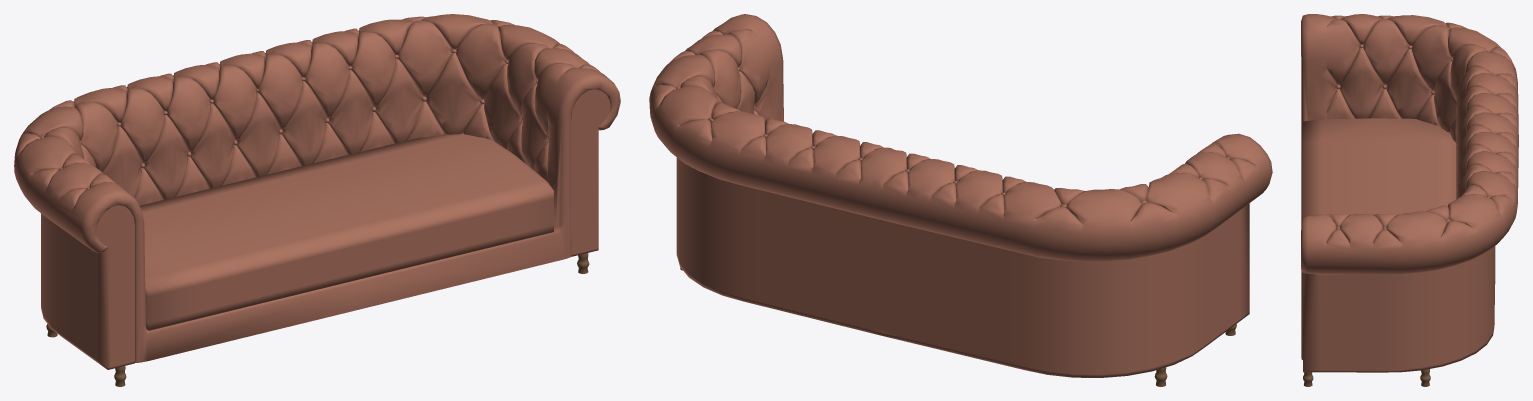
The model's file is sofa_winchester.glb.
3 views of the same model, side by side, from view 1: azimuth 30°, elevation 25°; view 2: azimuth 150°, elevation 25°; view 3: azimuth 270°, elevation 25° (orthographic). The views are drawn at different scales.
Parts seen in each view (by area): view 1: Circle, Cube_Cube.001, Circle.002_Circle.003; view 2: Circle.002_Circle.003, Circle; view 3: Circle, Circle.002_Circle.003, Cube_Cube.001.
Boxes of the visible parts, x1,y1,x2,y2 form: Circle: (14, 14, 620, 362); Cube_Cube.001: (139, 132, 553, 330); Circle.002_Circle.003: (41, 89, 610, 369); Circle.002_Circle.003: (676, 157, 1249, 377); Circle: (649, 14, 1272, 261); Circle: (1301, 14, 1518, 359); Circle.002_Circle.003: (1303, 68, 1495, 372); Cube_Cube.001: (1302, 118, 1456, 216).
Size of the model in its own units: 2.32 by 0.804 by 0.938.
